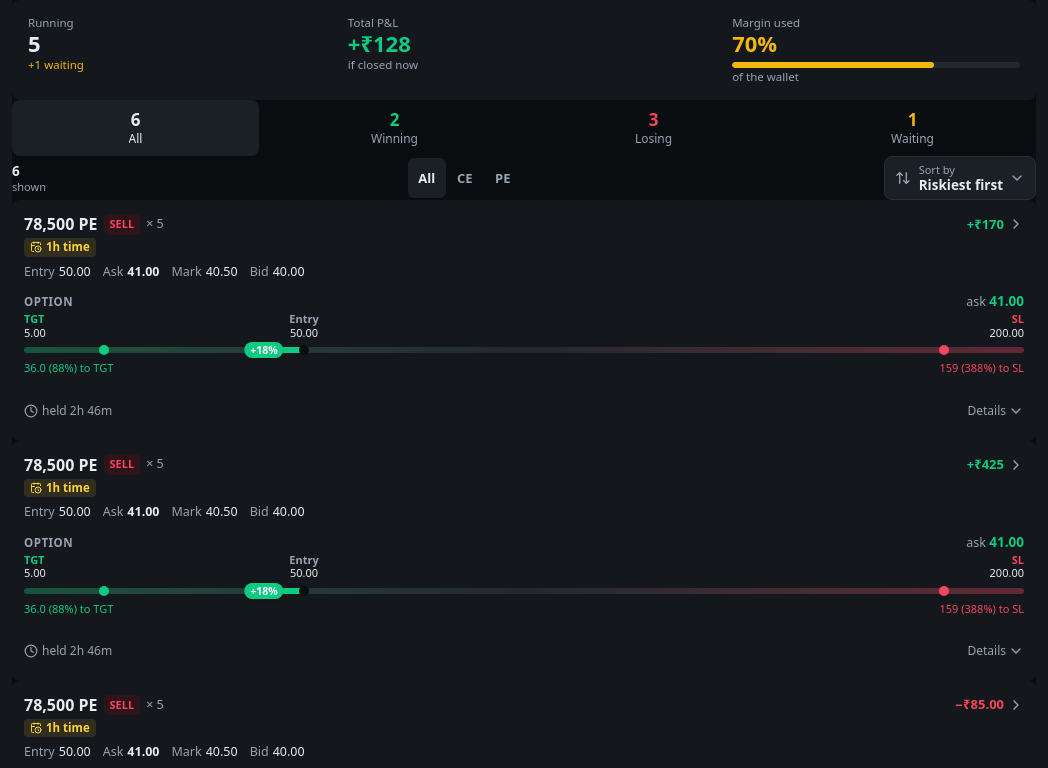
PositionsScreen › [critical] the chips count each kind, and a tap shows only that kind -- a second tap, all again
Click the button "3 Losing" at (654, 128), box [530,100,777,156]
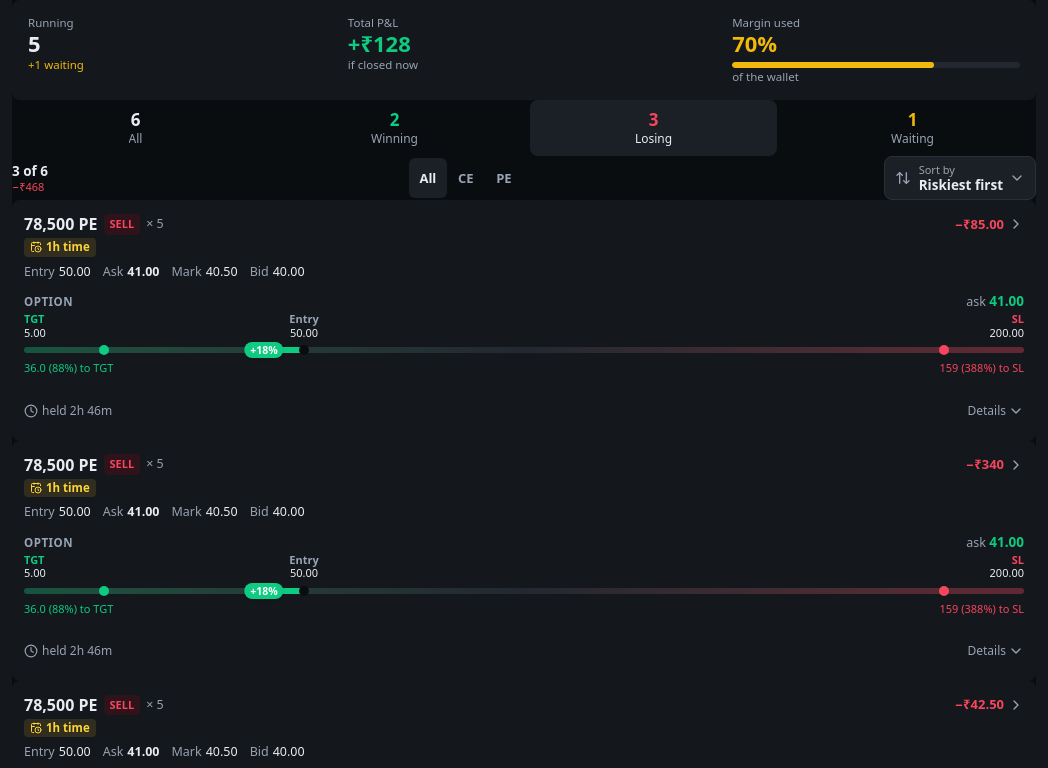
Expected: the number of buttons named "what happened" is 3, [24,202,1024,246]; [24,443,1024,487]; [24,683,1024,727]
Expected: the text "3 of 6" is shown, [12,163,48,180]
Click the button "3 Losing" at (654, 128), box [530,100,777,156]
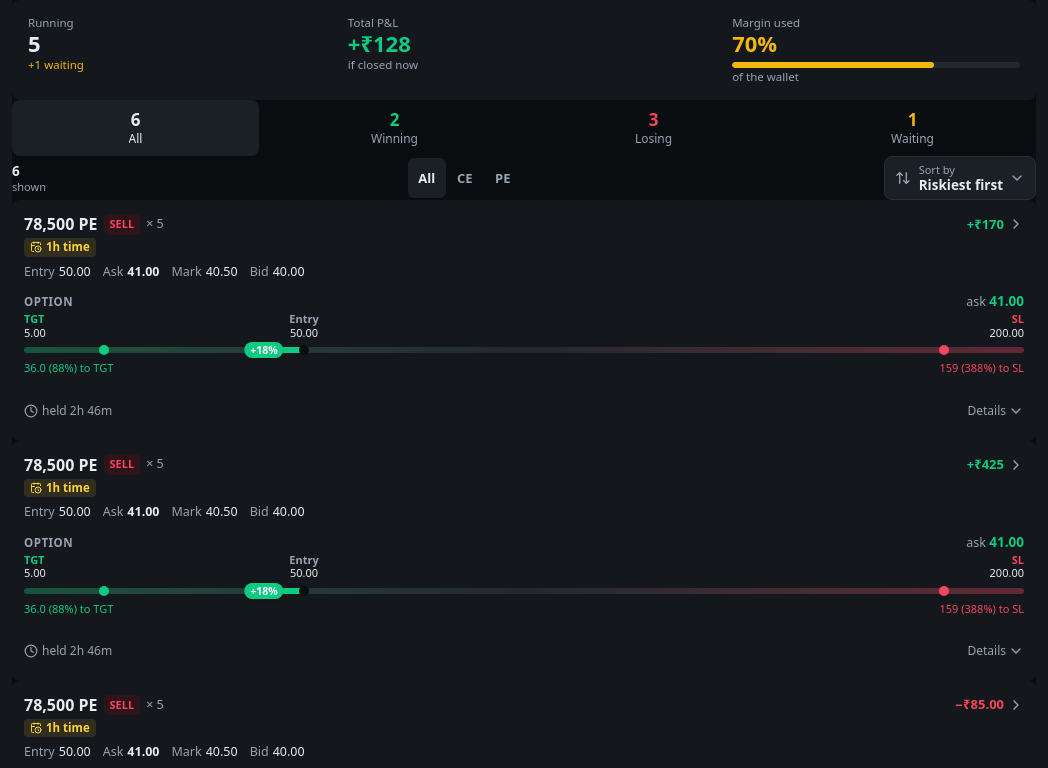
Expected: the number of buttons named "what happened" is 6
